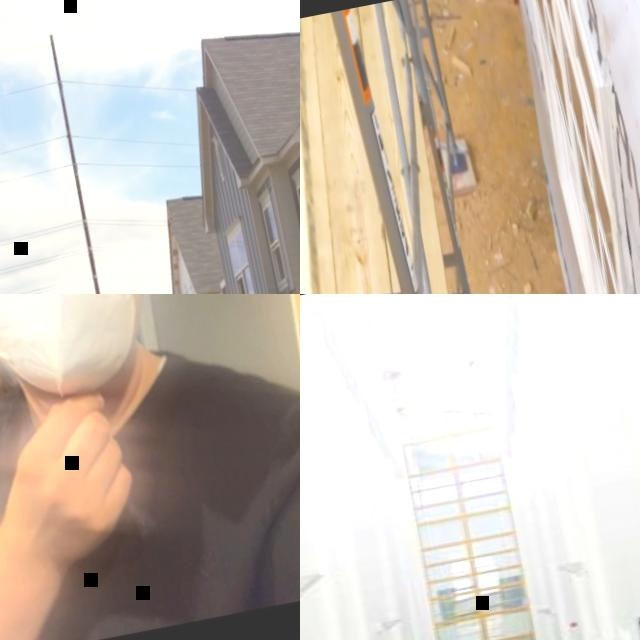Mask: (0, 294, 155, 404)
NO-Safety Vest: (0, 342, 300, 640)
Person: (0, 294, 300, 640)
